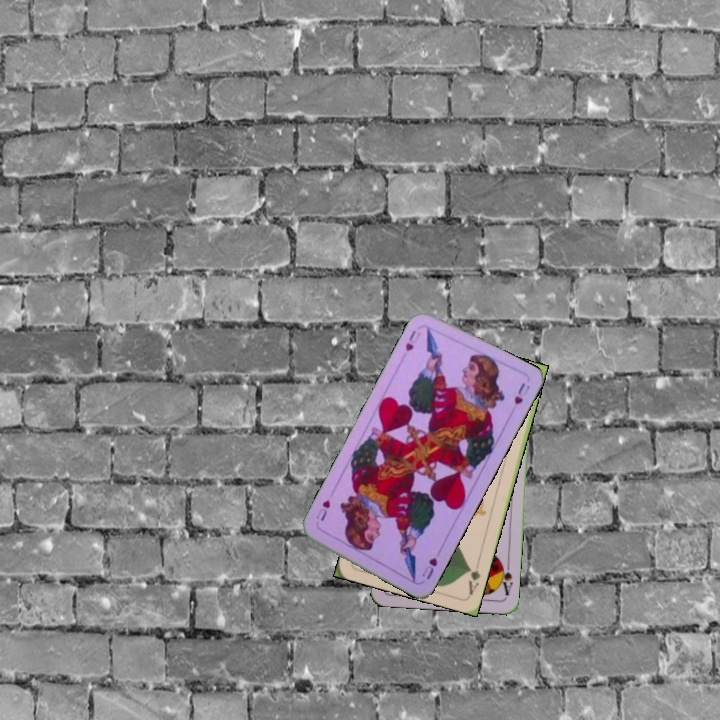GA: (464, 557, 483, 598)
HU: (417, 553, 440, 582), (401, 326, 423, 354)
SA: (495, 558, 515, 598)
